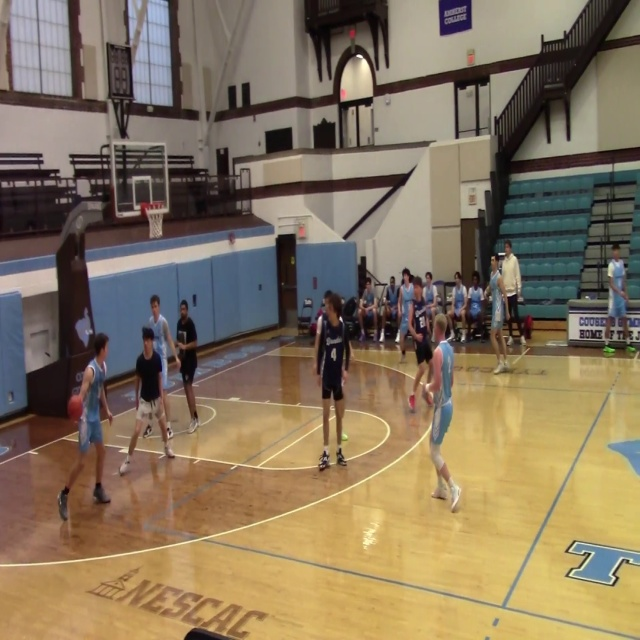Basketball: (67, 395, 83, 421), (421, 386, 433, 406), (341, 432, 348, 441)
